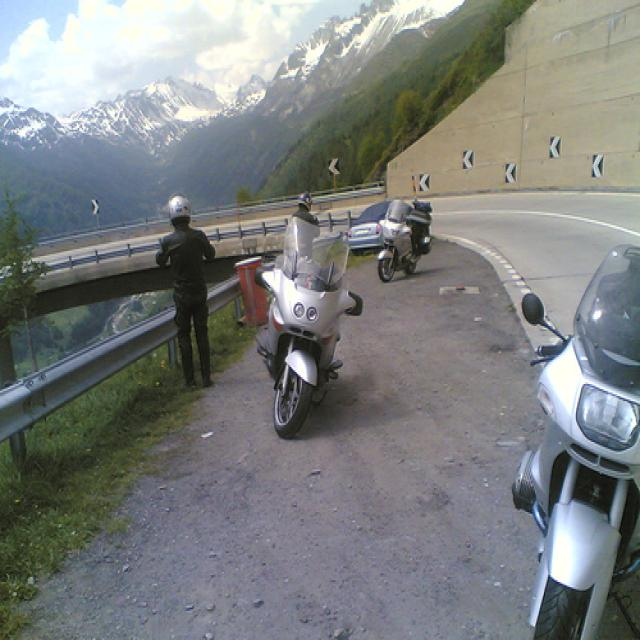light_vehicle: (348, 201, 392, 256)
